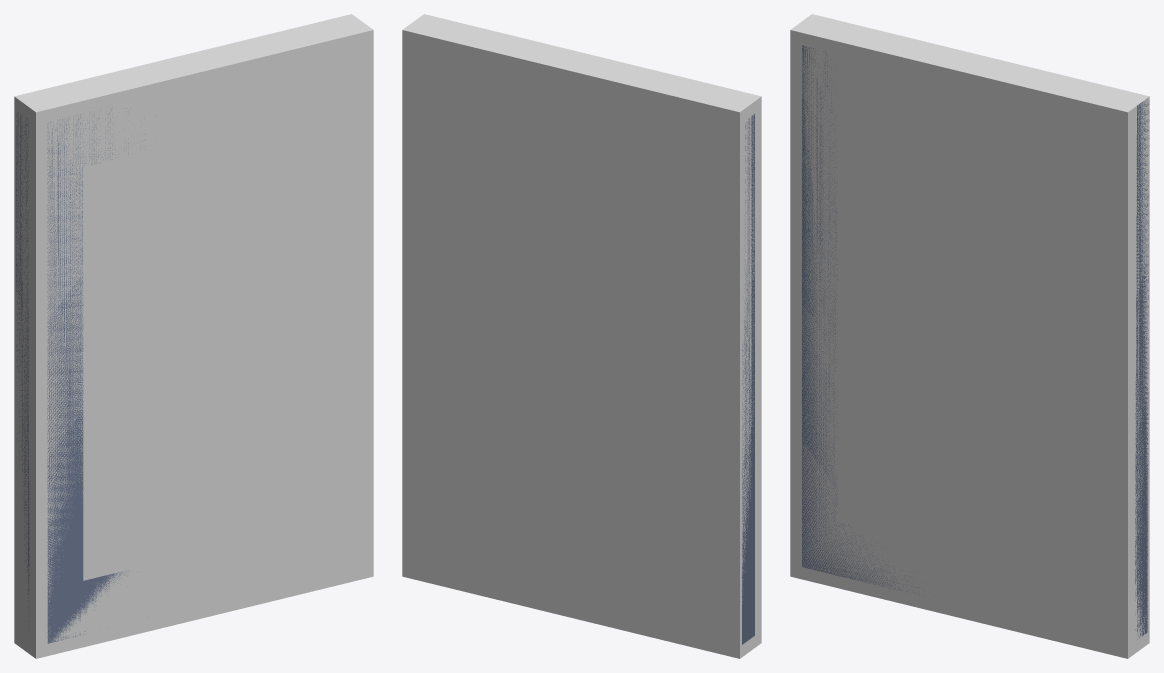
The model's file is Walkman.001.fbx.
The picture shows the model from 3 angles, left to right: view 1: azimuth 30°, elevation 25°; view 2: azimuth 150°, elevation 25°; view 3: azimuth 330°, elevation 25°; orthographic projection.
Visible parts, largest first — view 1: Walkman.001_COL0, Walkman.001_LOD0; view 2: Walkman.001_COL0, Walkman.001_LOD0; view 3: Walkman.001_COL0, Walkman.001_LOD0.
Part boxes in pixels (left/top/right/bottom): Walkman.001_COL0: left=14, top=14, right=373, bottom=658; Walkman.001_LOD0: left=16, top=108, right=144, bottom=643; Walkman.001_COL0: left=402, top=14, right=761, bottom=658; Walkman.001_LOD0: left=742, top=114, right=754, bottom=644; Walkman.001_COL0: left=790, top=14, right=1149, bottom=658; Walkman.001_LOD0: left=802, top=45, right=1149, bottom=639.
Size of what is drawn, in the model's own units: 0.1646 by 0.2546 by 0.0184.
